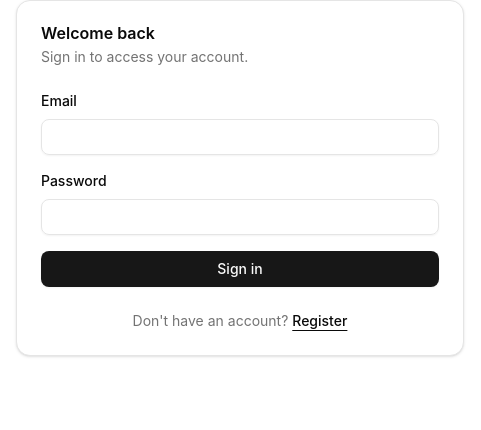
LoginPage › validates credentials before submitting
Click the button "Sign in" at (240, 269), box [41,251,439,287]
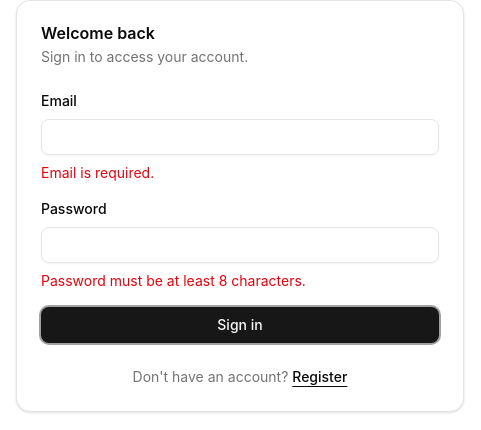
expect the text "Email is required." is shown: met, box [41,164,154,181]
expect the text "Password must be at least 8 characters." is shown: met, box [41,272,306,289]
